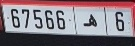5: (32, 8, 43, 29)
6: (113, 10, 127, 33), (9, 7, 21, 30), (44, 8, 55, 30), (55, 9, 66, 30)
7: (21, 8, 31, 29)
h: (83, 12, 100, 29)
